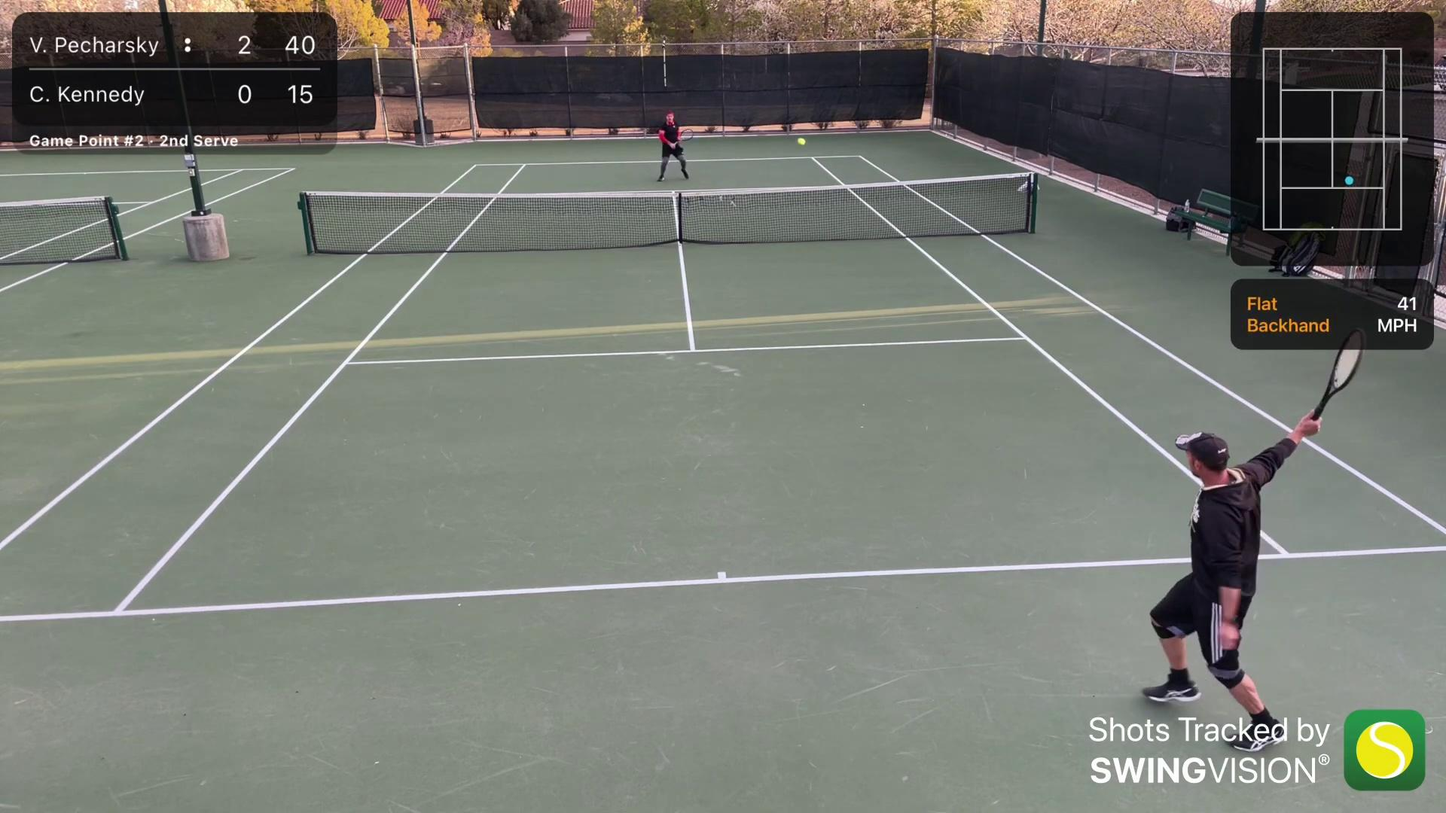ball: (797, 136, 807, 147)
